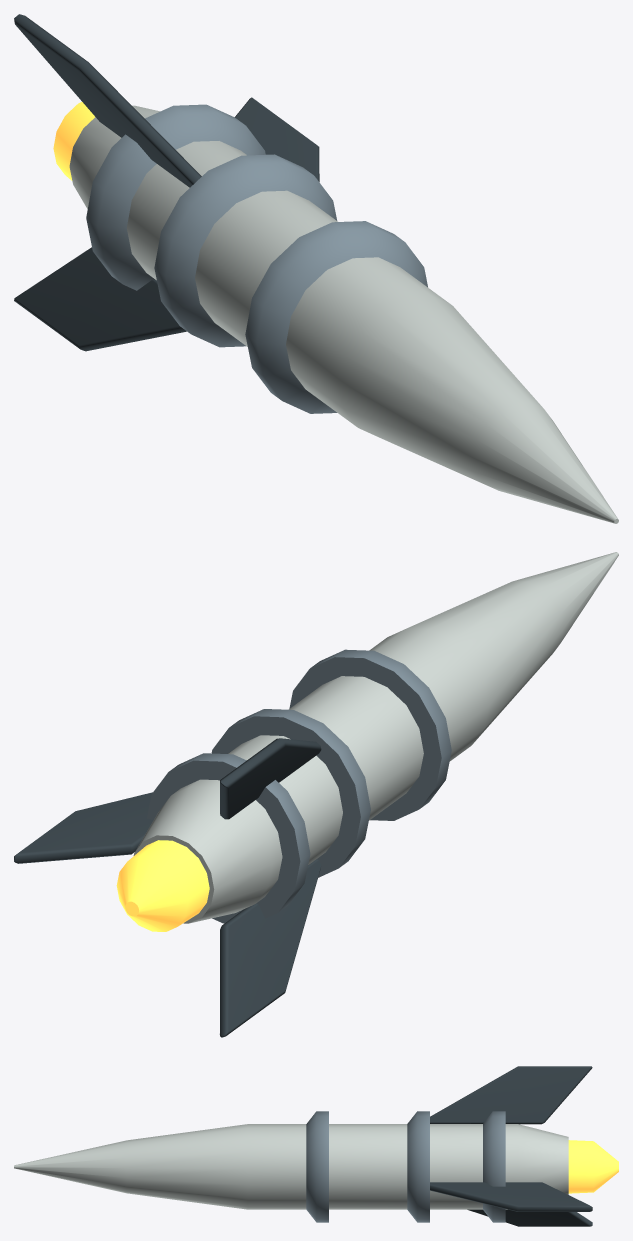
Rendered from zb_machine_gun.glb.
3 views of the same model, one above another, from view 1: azimuth 30°, elevation 25°; view 2: azimuth 150°, elevation 25°; view 3: azimuth 270°, elevation 25° (orthographic). The views are drawn at different scales.
Parts seen in each view (by area): view 1: zb_machine_gun / Ivory ceramic, zb_machine_gun / Machined titanium, zb_machine_gun / Carbon ceramic, zb_machine_gun / Tracer ember; view 2: zb_machine_gun / Ivory ceramic, zb_machine_gun / Machined titanium, zb_machine_gun / Carbon ceramic, zb_machine_gun / Tracer ember; view 3: zb_machine_gun / Ivory ceramic, zb_machine_gun / Carbon ceramic, zb_machine_gun / Machined titanium, zb_machine_gun / Tracer ember.
Boxes of the visible parts, <box> form: zb_machine_gun / Ivory ceramic: <box>69,105,618,523</box>; zb_machine_gun / Machined titanium: <box>86,104,427,413</box>; zb_machine_gun / Carbon ceramic: <box>14,14,319,351</box>; zb_machine_gun / Tracer ember: <box>53,102,94,180</box>; zb_machine_gun / Ivory ceramic: <box>133,552,618,923</box>; zb_machine_gun / Machined titanium: <box>147,649,451,923</box>; zb_machine_gun / Carbon ceramic: <box>14,738,321,1037</box>; zb_machine_gun / Tracer ember: <box>116,840,209,931</box>; zb_machine_gun / Ivory ceramic: <box>14,1124,568,1209</box>; zb_machine_gun / Carbon ceramic: <box>430,1066,592,1226</box>; zb_machine_gun / Machined titanium: <box>306,1111,505,1222</box>; zb_machine_gun / Tracer ember: <box>568,1140,618,1193</box>.
Size of the model in its own units: 6.21 by 7 by 24.
